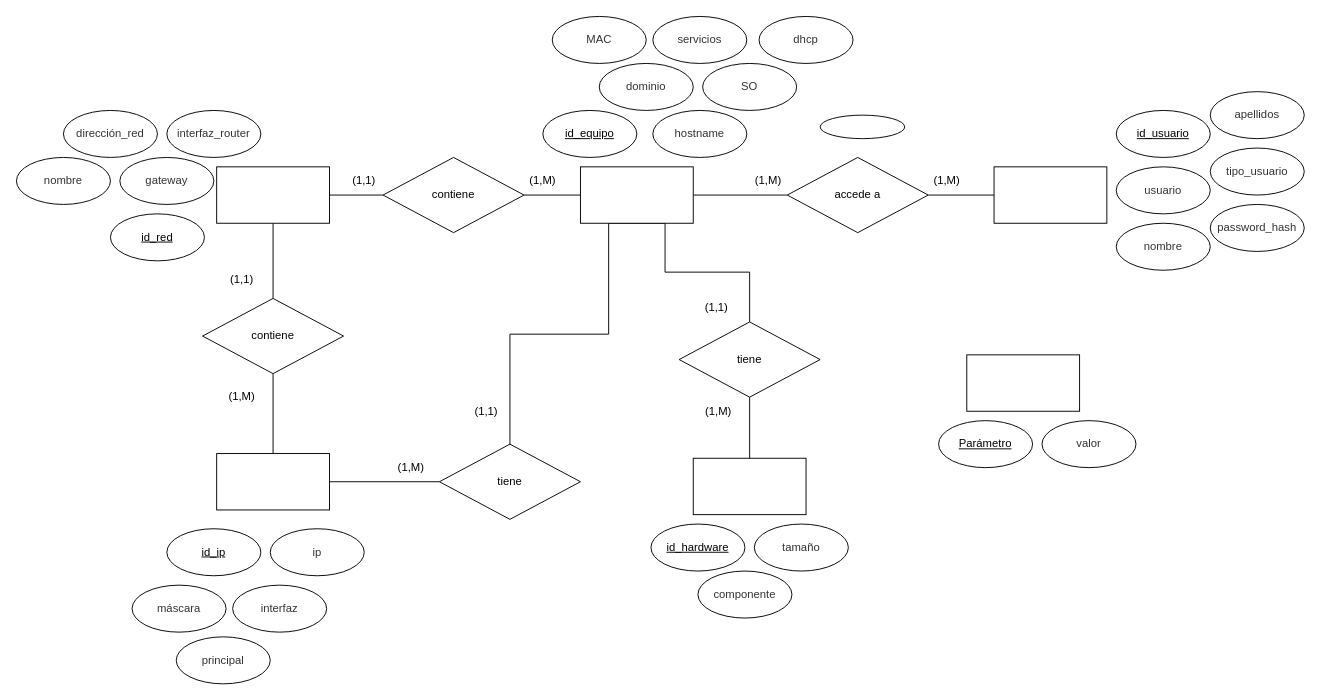
The diagram is 1321 pixels wide and 700 high, and some of its shapes have lost their labels. Here are the shapes that lost their labels. From the top down, the centre of each, then its label:
the point at 862,126: Tipo_acceso
the point at 272,194: Redes
the point at 636,194: Equipos
the point at 1050,194: Usuarios
the point at 1023,382: Parametros
the point at 272,481: Ips
the point at 749,486: Hardware
